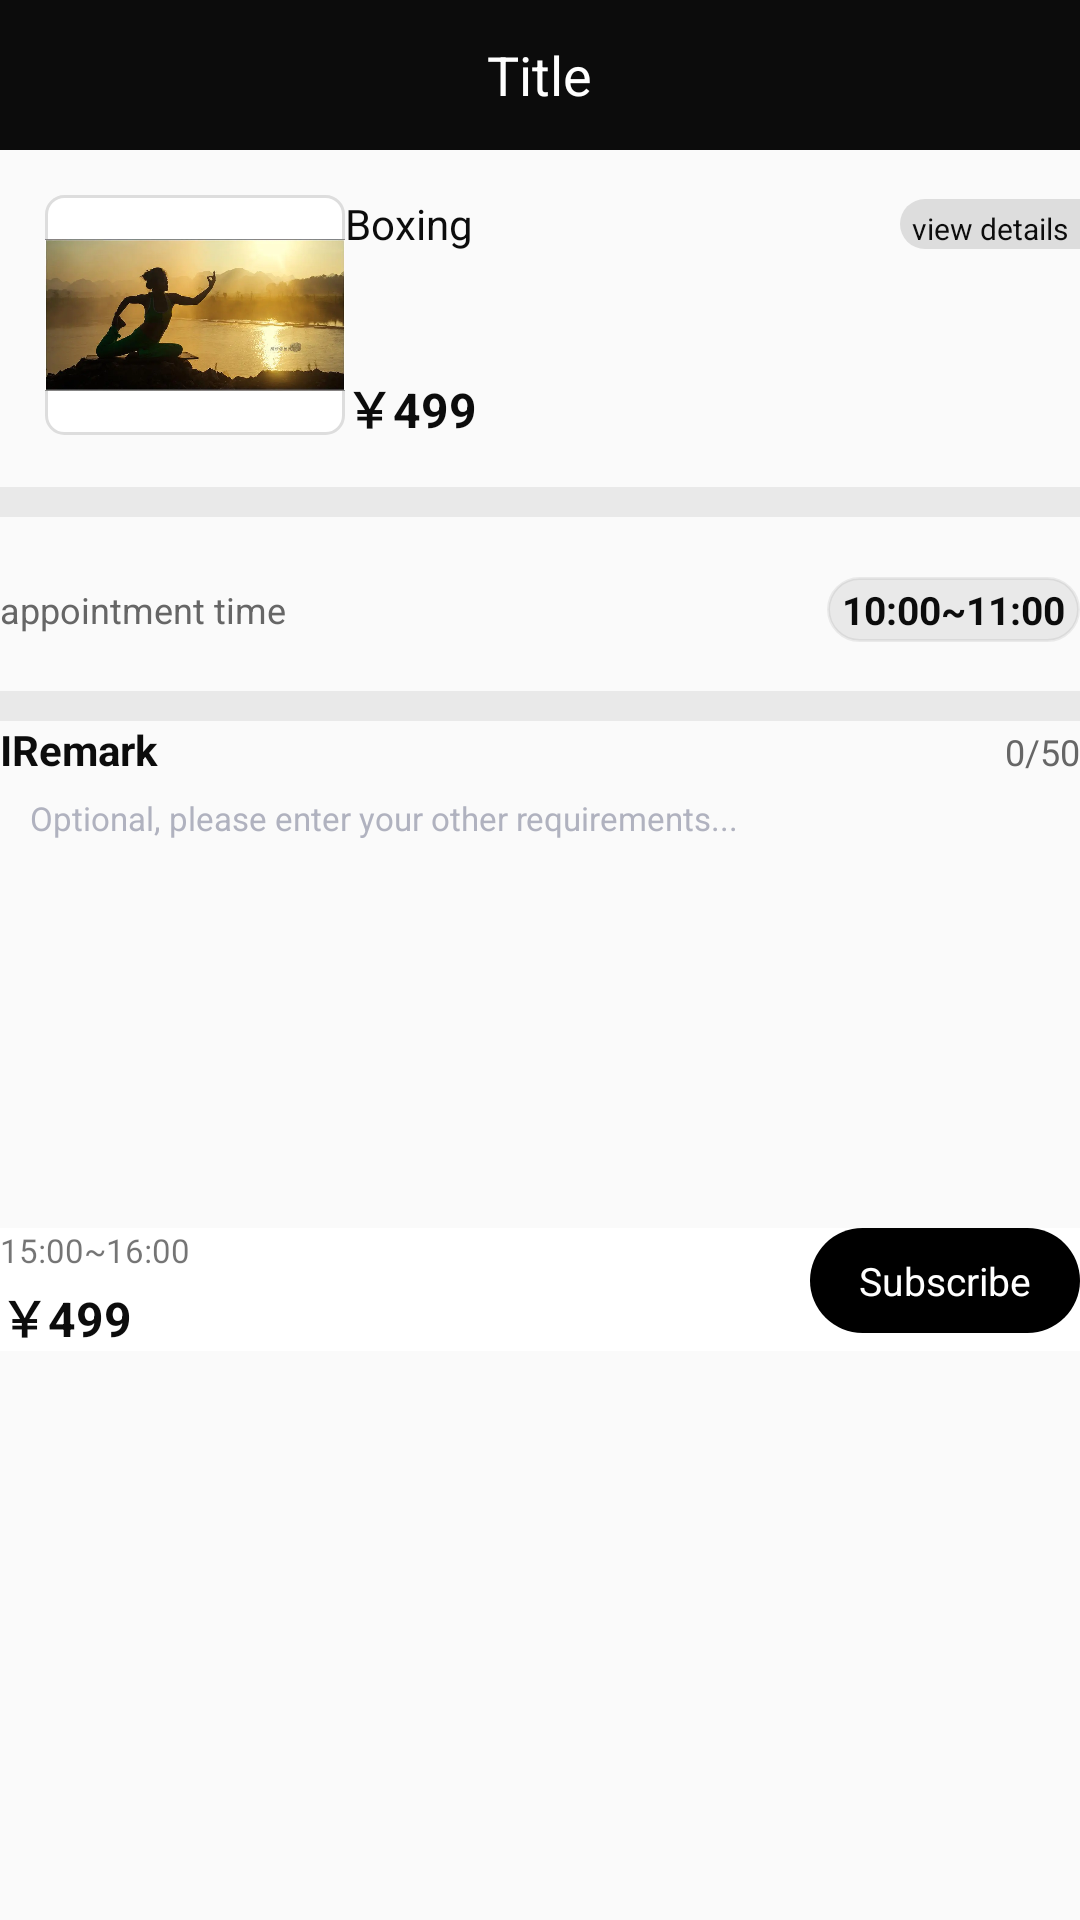

Point at icon controls on the screen. Image size 1080×1920, points as point (x, y).
yujia: point (195, 315)
